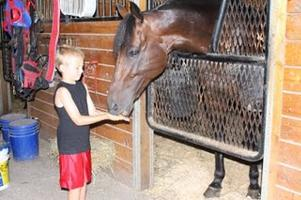person: (50, 45, 131, 200)
